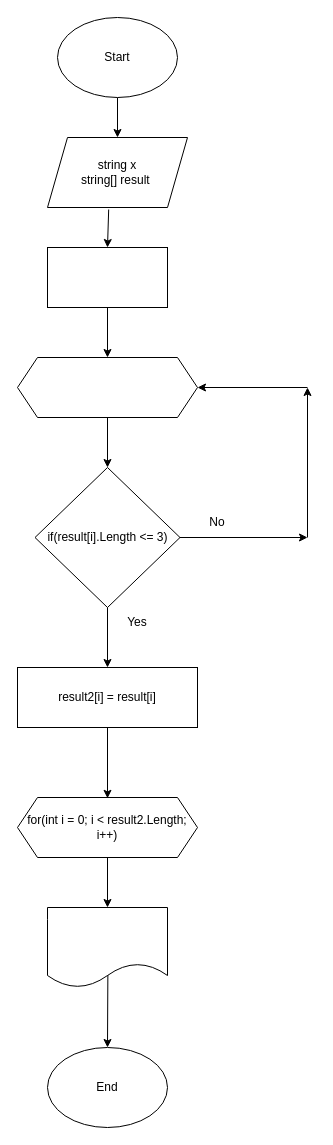
Image size: 333x1145. Some labels were removed from this diagram. The shapes that lost their labels are listed below. From the top down, each one's box as (x1, y1, x2, y2) in pixels, then its label:
(46, 246, 168, 308): string[] result2 = new string[result.Length]
(16, 356, 198, 418): for(int i = 0; i < result.Length; i++)
(46, 906, 168, 988): result2[i]
